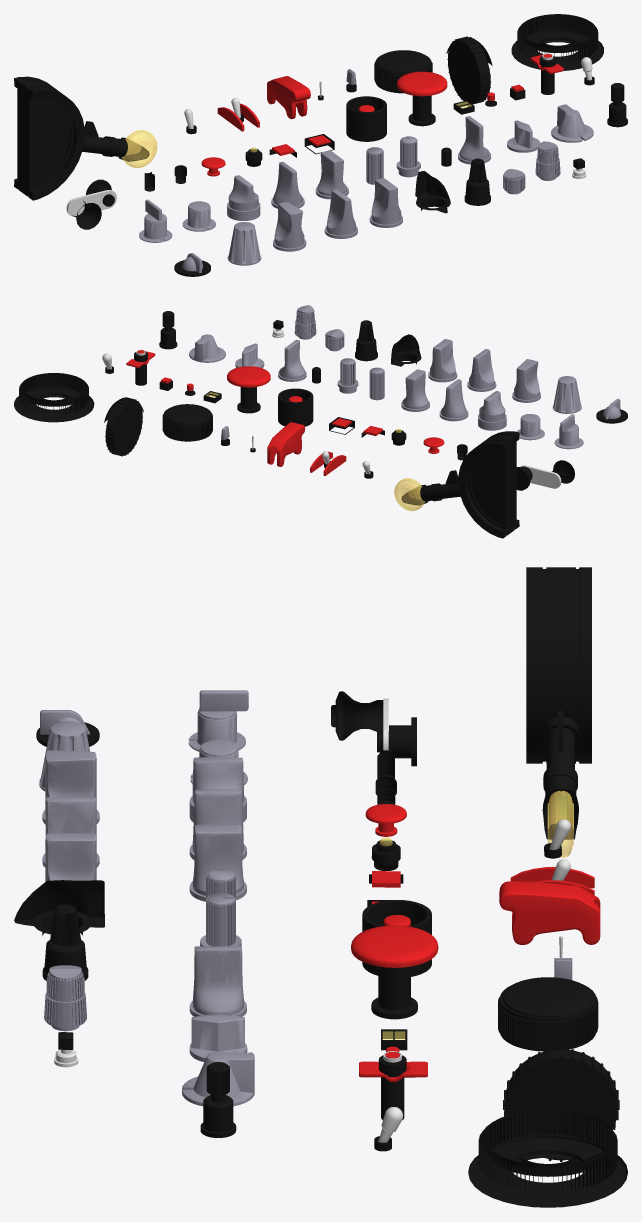
The model's file is aircraft_knobs.glb.
The picture shows the model from 3 angles, top to bottom: view 1: azimuth 30°, elevation 25°; view 2: azimuth 150°, elevation 25°; view 3: azimuth 270°, elevation 25°; orthographic projection. The views are drawn at different scales.
Visible parts, largest first — view 1: Object_6, Object_4, Object_91; view 2: Object_6, Object_4, Object_91; view 3: Object_6, Object_4, Object_91.
Part boxes in pixels (left/top/right/bottom): Object_6: left=14, top=14, right=627, bottom=276; Object_4: left=66, top=53, right=593, bottom=273; Object_91: left=122, top=101, right=471, bottom=167; Object_6: left=14, top=311, right=627, bottom=538; Object_4: left=102, top=305, right=620, bottom=488; Object_91: left=206, top=392, right=424, bottom=511; Object_6: left=14, top=567, right=627, bottom=1207; Object_4: left=39, top=690, right=600, bottom=1142; Object_91: left=380, top=790, right=573, bottom=1039.
Size of the model in its own units: 40.08 by 8.27 by 21.3.
Materials: 3 (3 with a texture image).
